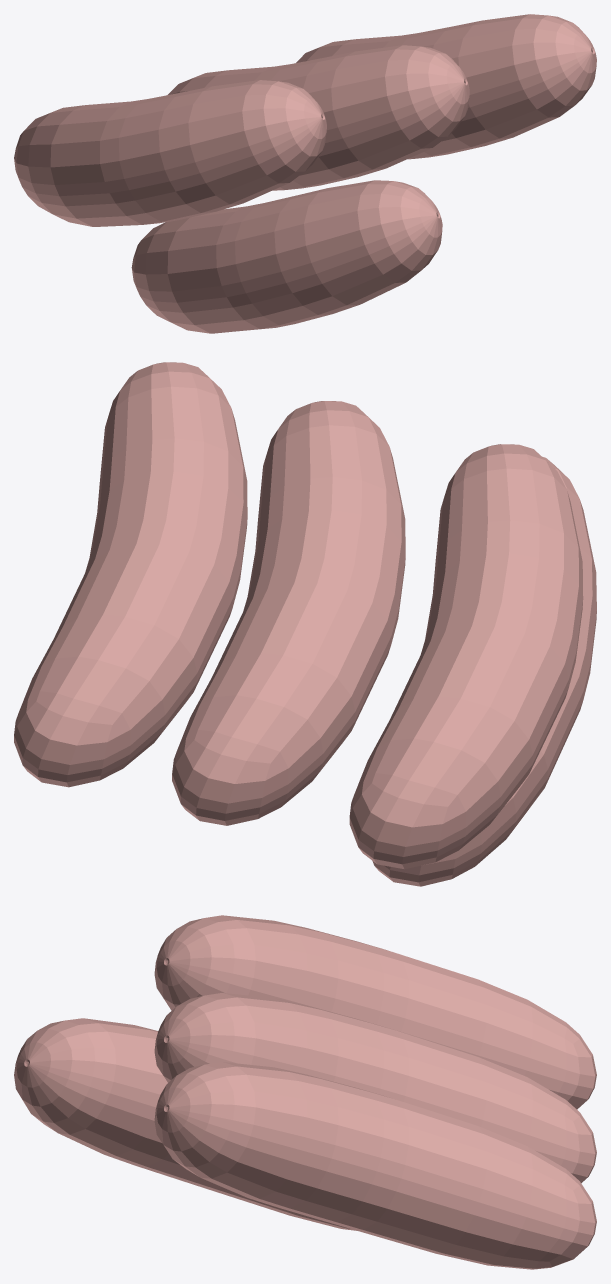
Rendered from salsichas.fbx.
The picture shows the model from 3 angles, top to bottom: view 1: azimuth 30°, elevation 25°; view 2: azimuth 150°, elevation 25°; view 3: azimuth 270°, elevation 25°; orthographic projection. The views are drawn at different scales.
Visible parts, largest first — view 1: polySurface18, polySurface17, polySurface90, polySurface91; view 2: polySurface91, polySurface90, polySurface18, polySurface17; view 3: polySurface91, polySurface18, polySurface90, polySurface17.
Part boxes in pixels (box(x1,y1,x2,y2)): polySurface18: box(14, 80, 326, 226); polySurface17: box(131, 180, 442, 333); polySurface90: box(168, 45, 469, 190); polySurface91: box(296, 14, 596, 159); polySurface91: box(14, 362, 247, 787); polySurface90: box(172, 401, 405, 825); polySurface18: box(349, 444, 583, 869); polySurface17: box(372, 457, 596, 886); polySurface91: box(154, 1062, 596, 1269); polySurface18: box(154, 915, 596, 1109); polySurface90: box(154, 993, 596, 1183); polySurface17: box(14, 1018, 356, 1230).
Size of the model in its own units: 4.31 by 2.68 by 4.5.
